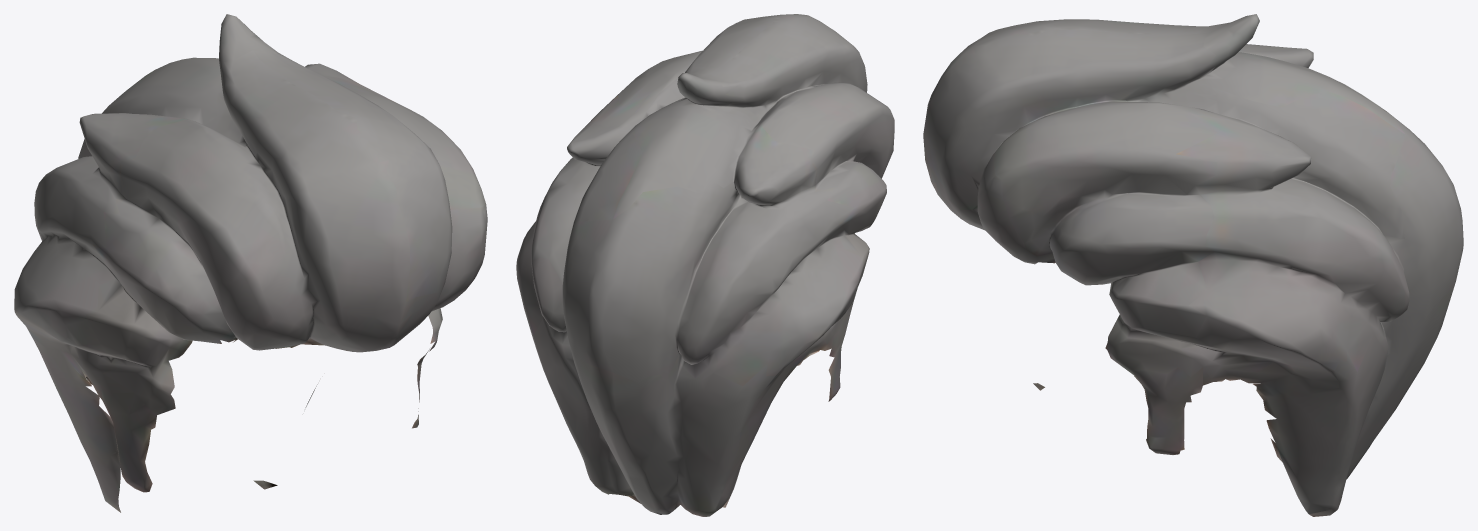
File: hair-m-quiff.glb
3 renders of one model, left to right at view 1: azimuth 30°, elevation 25°; view 2: azimuth 150°, elevation 25°; view 3: azimuth 270°, elevation 25°, orthographic. The views are drawn at different scales.
Parts seen in each view (by area): view 1: hair-m-quiff; view 2: hair-m-quiff; view 3: hair-m-quiff.
Part boxes in pixels (x1=…): hair-m-quiff: x1=14, y1=14, x2=487, y2=512; hair-m-quiff: x1=516, y1=14, x2=894, y2=516; hair-m-quiff: x1=923, y1=14, x2=1463, y2=516.
Size of the model in its own units: 1.02 by 1.29 by 1.3.
Materials: 1 (1 with a texture image).
